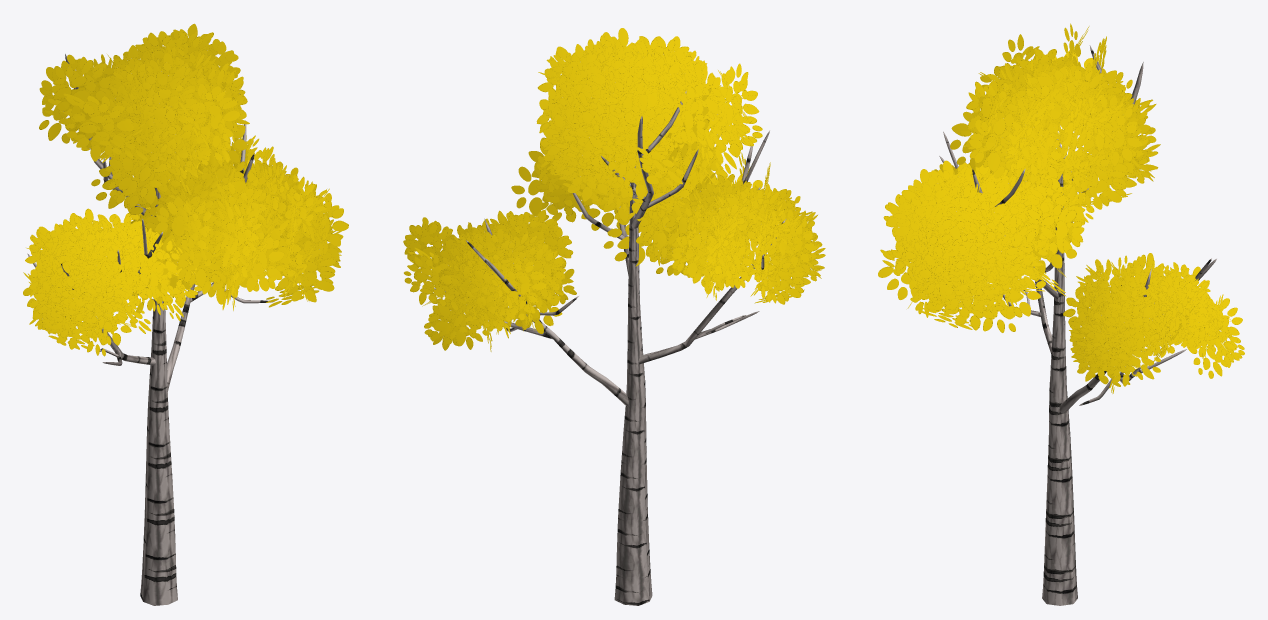
The model's file is BirchTree_5.glb.
3 views of the same model, side by side, from view 1: azimuth 30°, elevation 25°; view 2: azimuth 150°, elevation 25°; view 3: azimuth 270°, elevation 25° (orthographic). The views are drawn at different scales.
Visible parts, largest first — view 1: BirchTree_5; view 2: BirchTree_5; view 3: BirchTree_5.
Boxes of the visible parts, x1=… form: BirchTree_5: x1=23, y1=23, x2=348, y2=605; BirchTree_5: x1=403, y1=28, x2=825, y2=605; BirchTree_5: x1=878, y1=23, x2=1244, y2=605.
Bounding box in the file's own units: 3.58 × 5.52 × 3.51.
2 materials, 2 textured.
